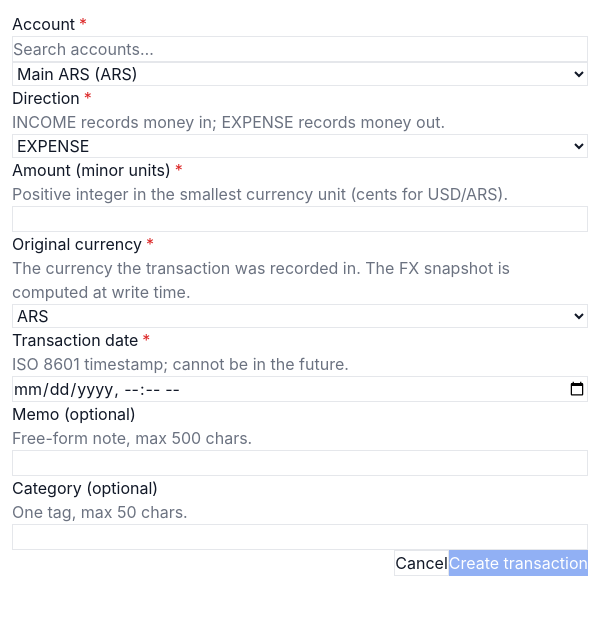
it: CreateTransactionForm — inline validation › surfaces an inline FieldError on amountMinor when the API returns INVALID_AMOUNT
Select "Main ARS (ARS)" in the dropdown with id "account-search-select". click: (300, 74)
box: [12,62,588,86]
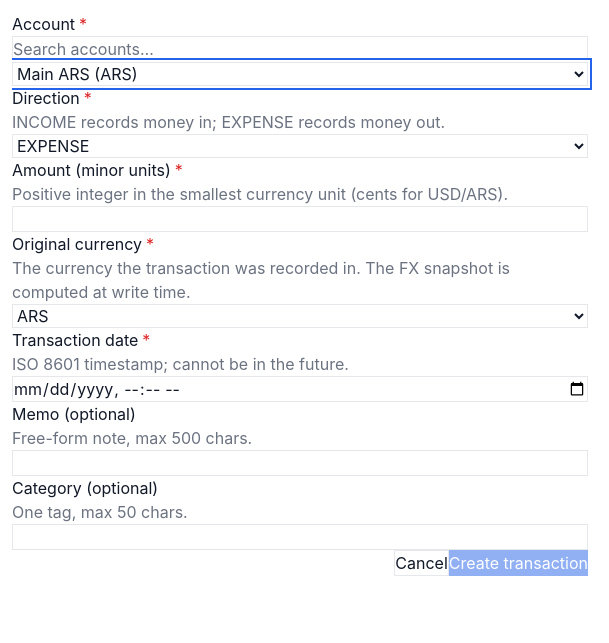
Select "INCOME" in the dropdown labelled "Direction*". click: (300, 146)
box: [12,134,588,158]
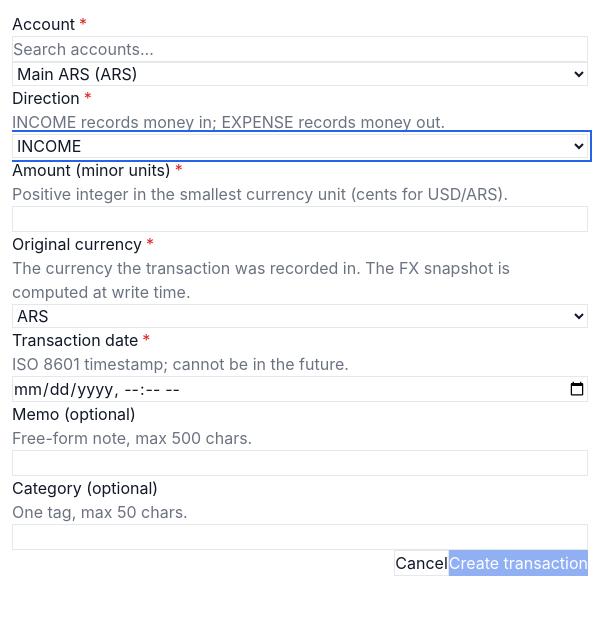
Type "100" into the number field labelled "Amount (minor units)*". click: (300, 219)
box: [12,206,588,232]
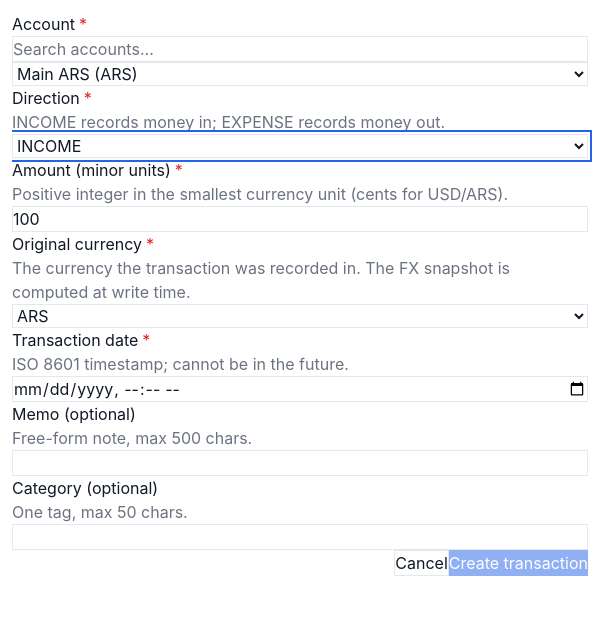
Select "ARS" in the dropdown labelled "Original currency*". click: (300, 316)
box: [12,304,588,328]
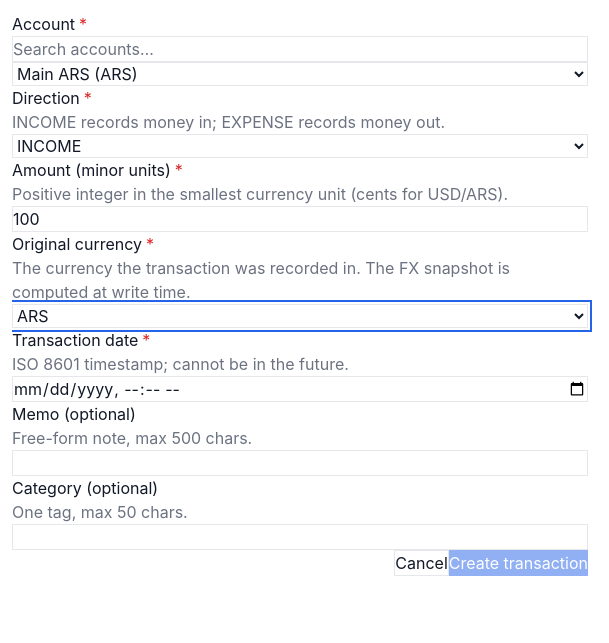
Type "2026-06-15T08:00" into the field labelled "Transaction date*". click: (300, 389)
box: [12,376,588,402]
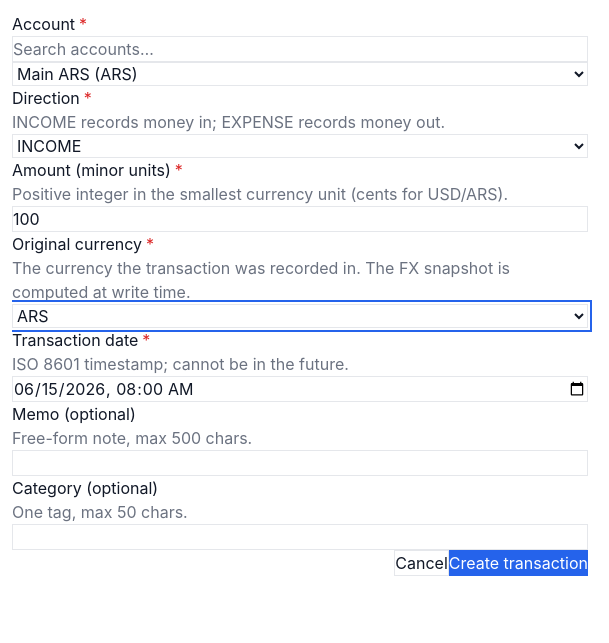
Click the button "Create transaction". click: click(518, 563)
box: [449,550,588,576]
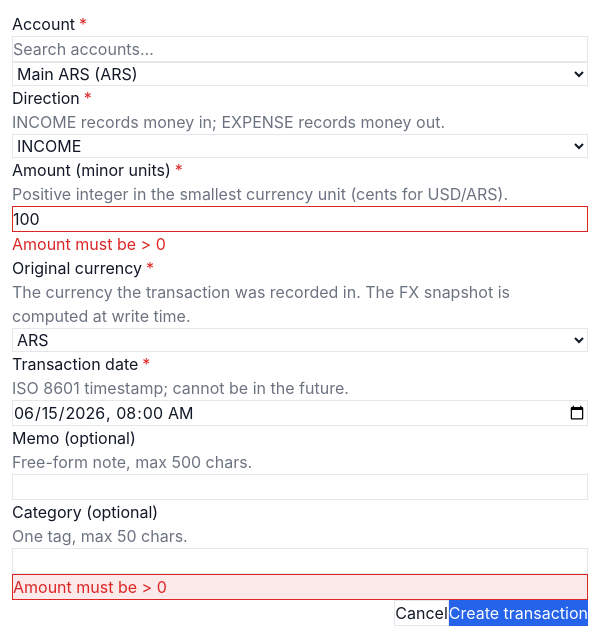
Check: the message with id "amountMinor-error" reads "Amount must be > 0", box [12,234,166,254]
